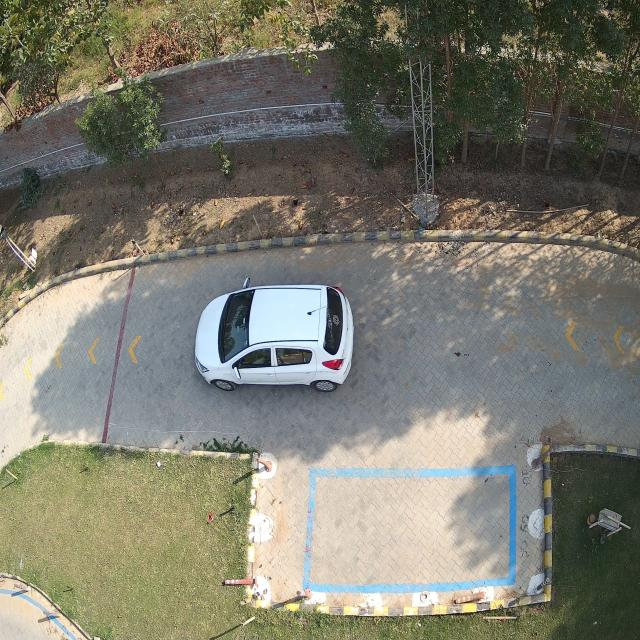car: (193, 284, 355, 394)
